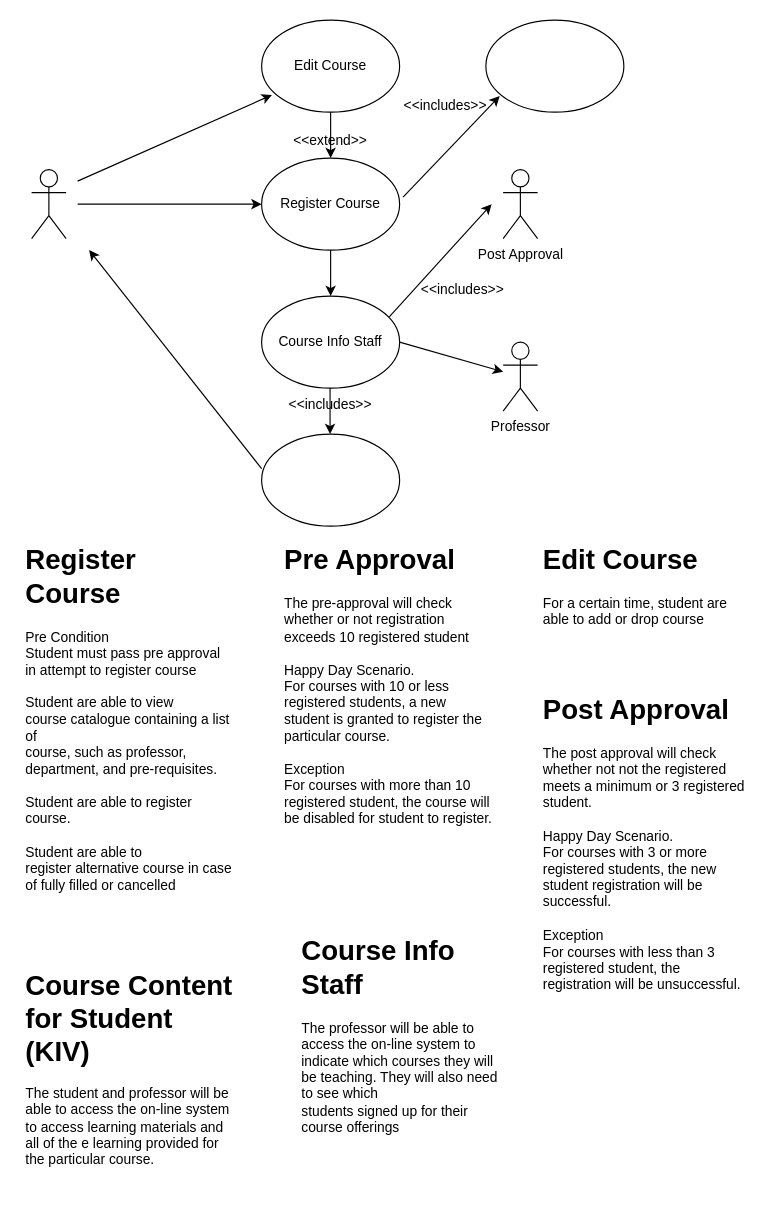
Some shapes in this 775 by 1213 pixel diagram are drawn without their labels. Here are the shapes that lost their labels. From the top down, the centre of each, then its label:
At point (554, 65): "Pre Approval".
At point (48, 203): "Student".
At point (330, 479): "Course Content for student (KIV)".
